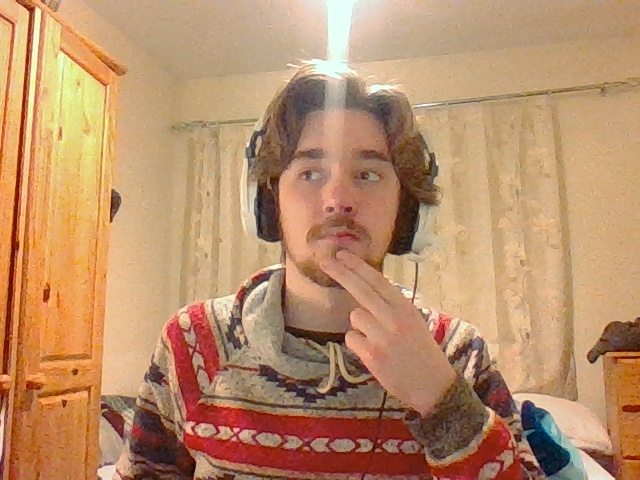afternoon: (305, 249, 456, 406)
